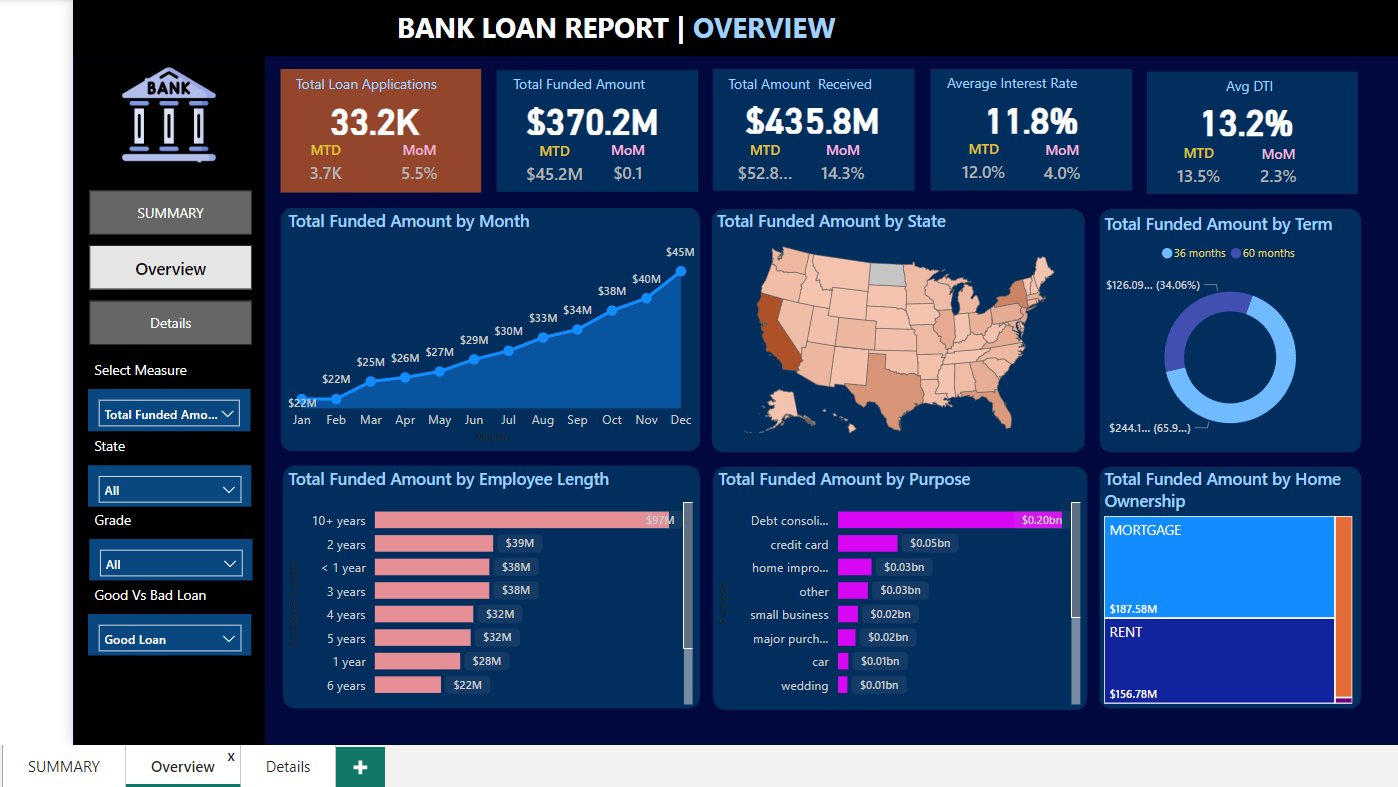

This screenshot's page, from the dashboard's own definition file:
{"tool":"powerbi","page":{"name":"Overview","canvas":[1280,720],"ordinal":1},"visuals":[{"type":"shape","box":[0,0,1279.6,55.5],"z":0},{"type":"shape","box":[200,67.5,194,119.3],"z":1000},{"type":"shape","box":[1.2,55.4,184.3,665.1],"z":2000},{"type":"textbox","box":[307.6,3.3,453.3,52.2],"z":3000},{"type":"card","fields":{"Values":["bank_loan_data.Total Loan Applications"]},"box":[194.3,94.8,194.6,41.3],"z":4000},{"type":"textbox","box":[209.6,67.6,179.3,34.8],"z":5000},{"type":"card","title":"MTD","fields":{"Values":["bank_loan_data.MTD Loan Applications"]},"box":[218.3,136.1,51.1,50],"z":6000},{"type":"card","title":"MoM","fields":{"Values":["bank_loan_data.MoM Loan Application"]},"box":[308.5,136.1,51.1,50],"z":7000},{"type":"shape","box":[408.6,68.5,194.6,117.4],"z":8000},{"type":"card","fields":{"Values":["bank_loan_data.Total Funded Amount"]},"box":[404.3,95.2,194.6,41.3],"z":9000},{"type":"textbox","box":[419.6,68,179.3,34.8],"z":10000},{"type":"card","title":"MTD","fields":{"Values":["bank_loan_data.MTD Funded Amount"]},"box":[428.3,137,72.8,50],"z":11000},{"type":"card","title":"MoM","fields":{"Values":["bank_loan_data.MoM Total Funded Amount"]},"box":[501.7,136.7,67.4,50],"z":12000},{"type":"shape","box":[617.7,68,194.6,117.4],"z":13000},{"type":"card","fields":{"Values":["bank_loan_data.Total Amount Received"]},"box":[616.3,94.6,194.6,41.3],"z":14000},{"type":"textbox","box":[627,67.6,179.3,34.8],"z":15000},{"type":"card","title":"MTD","fields":{"Values":["bank_loan_data.MTD Amount received"]},"box":[635.2,136.3,64.1,50],"z":16000},{"type":"card","title":"MoM","fields":{"Values":["bank_loan_data.MoM Total Amount Received"]},"box":[709.1,136.3,67.4,50],"z":17000},{"type":"shape","box":[826.7,67.2,194.6,117.4],"z":18000},{"type":"card","fields":{"Values":["bank_loan_data.Avg Interest Rate"]},"box":[827.4,93.7,194.6,41.3],"z":19000},{"type":"textbox","box":[838,66.8,179.3,34.8],"z":20000},{"type":"card","title":"MTD","fields":{"Values":["bank_loan_data.MTD Avg Int Rate"]},"box":[846.3,135.5,64.1,50],"z":21000},{"type":"card","title":"MoM","fields":{"Values":["bank_loan_data.MoM Avg Int Rate"]},"box":[919.5,136.1,70.7,49.1],"z":22000},{"type":"shape","box":[1036.1,69.9,203.6,118.1],"z":23000},{"type":"card","fields":{"Values":["bank_loan_data.Avg DTI"]},"box":[1035.2,97,194.6,41.3],"z":24000},{"type":"textbox","box":[1045.8,70,179.3,34.8],"z":25000},{"type":"card","title":"MTD","fields":{"Values":["bank_loan_data.MTD Avg DTI"]},"box":[1054.1,138.7,64.1,50],"z":26000},{"type":"card","title":"MoM","fields":{"Values":["bank_loan_data.MoM Avg DTI"]},"box":[1127.3,139.3,70.7,49.1],"z":27000},{"type":"shape","box":[200,201.2,405,235],"z":28000},{"type":"slicer","fields":{"Values":["bank_loan_data.address_state"]},"box":[14.5,449.4,157.8,39.8],"z":29000},{"type":"textbox","box":[15.7,416.9,53,32.5],"z":30000},{"type":"slicer","fields":{"Values":["bank_loan_data.grade"]},"box":[15.7,520.5,157.8,39.8],"z":31000},{"type":"textbox","box":[15.7,488,67.5,32.5],"z":32000},{"type":"slicer","fields":{"Values":["bank_loan_data.Good vs Bad Loans"]},"box":[14.5,592.8,157.8,39.8],"z":33000},{"type":"textbox","box":[15.7,560.2,155.4,32.5],"z":34000},{"type":"areaChart","fields":{"Y":["bank_loan_data.Total Funded Amount"],"Category":["Date Table.Month"]},"box":[202.4,202.4,402.4,231.3],"z":35000},{"type":"slicer","fields":{"Values":["Select Measure.Select Measure"]},"box":[14.5,375.9,156.6,41],"z":36000},{"type":"textbox","box":[15.7,343.4,107.2,32.5],"z":37000},{"type":"shape","box":[616.9,202.4,360,234.9],"z":38000},{"type":"shapeMap","fields":{"Value":["bank_loan_data.Total Funded Amount"],"Category":["bank_loan_data.address_state"]},"box":[616.9,202.4,362.7,231.3],"z":39000},{"type":"shape","box":[990.4,202.4,253,234.9],"z":40000},{"type":"donutChart","fields":{"Y":["bank_loan_data.Total Funded Amount"],"Category":["bank_loan_data.term"]},"box":[990.4,204.8,253,232.5],"z":41000},{"type":"shape","box":[202.4,449.4,402.4,234.9],"z":42000},{"type":"barChart","fields":{"Y":["bank_loan_data.Total Funded Amount"],"Category":["bank_loan_data.emp_length"]},"box":[202.4,450.6,400,234.9],"z":43000},{"type":"shape","box":[618.1,450.6,361.4,234.9],"z":44000},{"type":"barChart","fields":{"Y":["bank_loan_data.Total Funded Amount"],"Category":["bank_loan_data.purpose"]},"box":[618.1,450.6,359,234.9],"z":45000},{"type":"shape","box":[990.4,450.6,253,233.7],"z":45001},{"type":"treemap","fields":{"Group":["bank_loan_data.home_ownership"],"Values":["bank_loan_data.Total Funded Amount"]},"box":[990.4,450.6,249.4,233.7],"z":45002},{"type":"image","box":[40.2,56.4,106,108.4],"z":45003},{"type":"pageNavigator","box":[15.7,184.3,157.8,151.8],"z":45004}]}

Visuals, with their boxes on the page's 1280x720 design canvas (x1, y1, x2, y2). These are canvas units, not pixel positions in the 1398x787 screenshot, which may show the page scaled, cropped or inside an application window:
shape: {"x1": 0, "y1": 0, "x2": 1280, "y2": 56}
shape: {"x1": 200, "y1": 68, "x2": 394, "y2": 187}
shape: {"x1": 1, "y1": 55, "x2": 186, "y2": 720}
textbox: {"x1": 308, "y1": 3, "x2": 761, "y2": 56}
card - bank_loan_data.Total Loan Applications: {"x1": 194, "y1": 95, "x2": 389, "y2": 136}
textbox: {"x1": 210, "y1": 68, "x2": 389, "y2": 102}
"MTD" card: {"x1": 218, "y1": 136, "x2": 269, "y2": 186}
"MoM" card: {"x1": 308, "y1": 136, "x2": 360, "y2": 186}
shape: {"x1": 409, "y1": 68, "x2": 603, "y2": 186}
card - bank_loan_data.Total Funded Amount: {"x1": 404, "y1": 95, "x2": 599, "y2": 136}
textbox: {"x1": 420, "y1": 68, "x2": 599, "y2": 103}
"MTD" card: {"x1": 428, "y1": 137, "x2": 501, "y2": 187}
"MoM" card: {"x1": 502, "y1": 137, "x2": 569, "y2": 187}
shape: {"x1": 618, "y1": 68, "x2": 812, "y2": 185}
card - bank_loan_data.Total Amount Received: {"x1": 616, "y1": 95, "x2": 811, "y2": 136}
textbox: {"x1": 627, "y1": 68, "x2": 806, "y2": 102}
"MTD" card: {"x1": 635, "y1": 136, "x2": 699, "y2": 186}
"MoM" card: {"x1": 709, "y1": 136, "x2": 776, "y2": 186}
shape: {"x1": 827, "y1": 67, "x2": 1021, "y2": 185}
card - bank_loan_data.Avg Interest Rate: {"x1": 827, "y1": 94, "x2": 1022, "y2": 135}
textbox: {"x1": 838, "y1": 67, "x2": 1017, "y2": 102}
"MTD" card: {"x1": 846, "y1": 136, "x2": 910, "y2": 186}
"MoM" card: {"x1": 920, "y1": 136, "x2": 990, "y2": 185}
shape: {"x1": 1036, "y1": 70, "x2": 1240, "y2": 188}
card - bank_loan_data.Avg DTI: {"x1": 1035, "y1": 97, "x2": 1230, "y2": 138}
textbox: {"x1": 1046, "y1": 70, "x2": 1225, "y2": 105}
"MTD" card: {"x1": 1054, "y1": 139, "x2": 1118, "y2": 189}
"MoM" card: {"x1": 1127, "y1": 139, "x2": 1198, "y2": 188}
shape: {"x1": 200, "y1": 201, "x2": 605, "y2": 436}
slicer - bank_loan_data.address_state: {"x1": 14, "y1": 449, "x2": 172, "y2": 489}
textbox: {"x1": 16, "y1": 417, "x2": 69, "y2": 449}
slicer - bank_loan_data.grade: {"x1": 16, "y1": 520, "x2": 174, "y2": 560}
textbox: {"x1": 16, "y1": 488, "x2": 83, "y2": 520}
slicer - bank_loan_data.Good vs Bad Loans: {"x1": 14, "y1": 593, "x2": 172, "y2": 633}
textbox: {"x1": 16, "y1": 560, "x2": 171, "y2": 593}
areaChart - bank_loan_data.Total Funded Amount x Date Table.Month: {"x1": 202, "y1": 202, "x2": 605, "y2": 434}
slicer - Select Measure.Select Measure: {"x1": 14, "y1": 376, "x2": 171, "y2": 417}
textbox: {"x1": 16, "y1": 343, "x2": 123, "y2": 376}
shape: {"x1": 617, "y1": 202, "x2": 977, "y2": 437}
shapeMap - bank_loan_data.Total Funded Amount x bank_loan_data.address_state: {"x1": 617, "y1": 202, "x2": 980, "y2": 434}
shape: {"x1": 990, "y1": 202, "x2": 1243, "y2": 437}
donutChart - bank_loan_data.Total Funded Amount x bank_loan_data.term: {"x1": 990, "y1": 205, "x2": 1243, "y2": 437}
shape: {"x1": 202, "y1": 449, "x2": 605, "y2": 684}
barChart - bank_loan_data.Total Funded Amount x bank_loan_data.emp_length: {"x1": 202, "y1": 451, "x2": 602, "y2": 686}
shape: {"x1": 618, "y1": 451, "x2": 980, "y2": 686}
barChart - bank_loan_data.Total Funded Amount x bank_loan_data.purpose: {"x1": 618, "y1": 451, "x2": 977, "y2": 686}
shape: {"x1": 990, "y1": 451, "x2": 1243, "y2": 684}
treemap - bank_loan_data.home_ownership x bank_loan_data.Total Funded Amount: {"x1": 990, "y1": 451, "x2": 1240, "y2": 684}
image: {"x1": 40, "y1": 56, "x2": 146, "y2": 165}
pageNavigator: {"x1": 16, "y1": 184, "x2": 174, "y2": 336}
